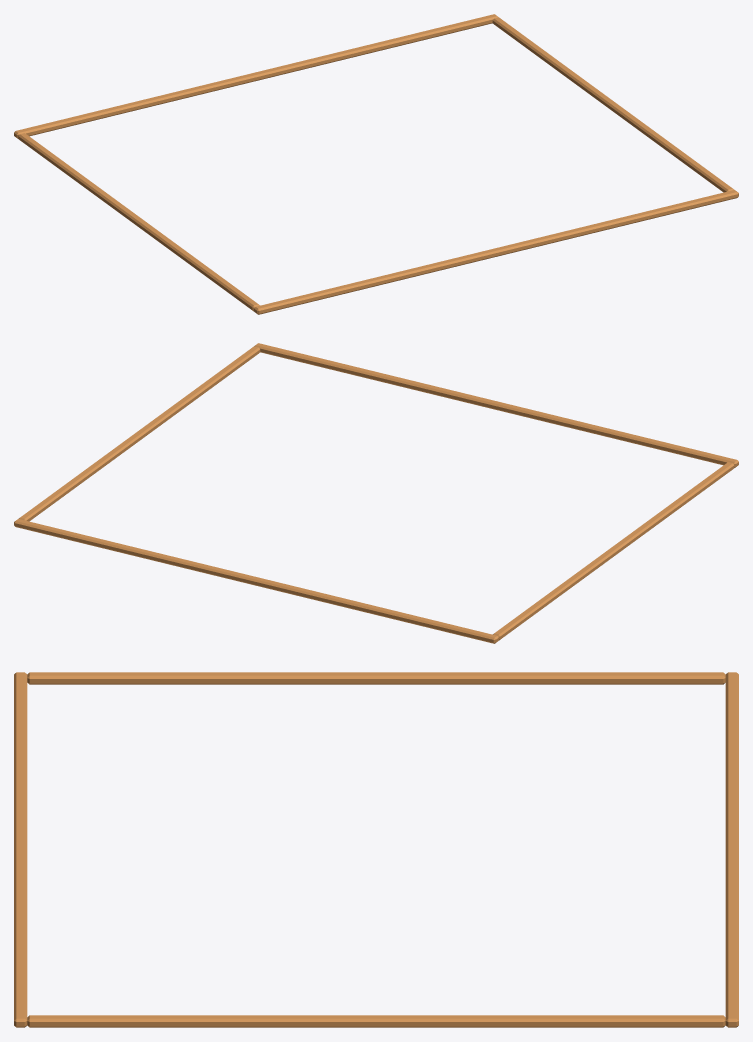
3 renders of one model, top to bottom at view 1: azimuth 30°, elevation 25°; view 2: azimuth 150°, elevation 25°; view 3: azimuth 270°, elevation 25°, orthographic. The views are drawn at different scales.
Parts seen in each view (by area): view 1: rim_front, rim_back, rim_left, rim_right; view 2: rim_back, rim_front, rim_left, rim_right; view 3: rim_left, rim_right, rim_back, rim_front.
Part boxes in pixels (box(x1,y1,x2,y2)): rim_front: box(254, 190, 738, 314); rim_back: box(14, 14, 498, 138); rim_left: box(18, 133, 259, 311); rim_right: box(492, 17, 734, 192); rim_back: box(14, 519, 498, 643); rim_front: box(254, 343, 738, 467); rim_left: box(493, 462, 734, 640); rim_right: box(18, 346, 260, 521); rim_left: box(27, 672, 725, 684); rim_right: box(27, 1015, 725, 1027); rim_back: box(725, 672, 738, 1027); rim_front: box(14, 672, 27, 1027).
Bounding box in the file's own units: 4.96 × 0.06 × 4.36.
